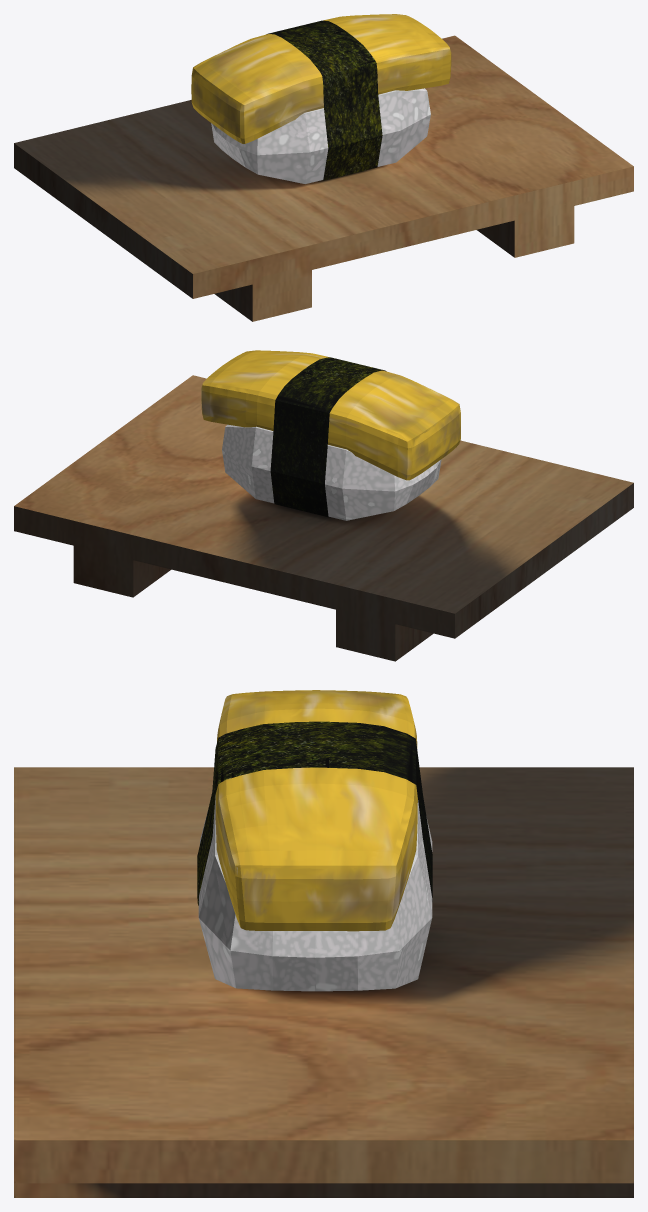
File: sushi_tamago.glb
3 renders of one model, top to bottom at view 1: azimuth 30°, elevation 25°; view 2: azimuth 150°, elevation 25°; view 3: azimuth 270°, elevation 25°, orthographic. The views are drawn at different scales.
Parts seen in each view (by area): view 1: geta.vox, tamago, nori, shari; view 2: geta.vox, tamago, nori, shari; view 3: geta.vox, tamago, shari, nori.
Part boxes in pixels (x1,y1,x2,y2): geta.vox: (14, 35, 633, 321); tamago: (191, 14, 451, 143); nori: (266, 20, 382, 180); shari: (211, 88, 430, 183); geta.vox: (14, 375, 633, 661); tamago: (201, 350, 460, 480); nori: (270, 357, 386, 517); shari: (222, 424, 441, 520); geta.vox: (14, 767, 633, 1197); tamago: (215, 690, 417, 931); shari: (198, 795, 432, 991); nori: (197, 721, 432, 905).
Size of the model in its own units: 3.7 by 1.45 by 2.6.
4 materials, 4 textured.
